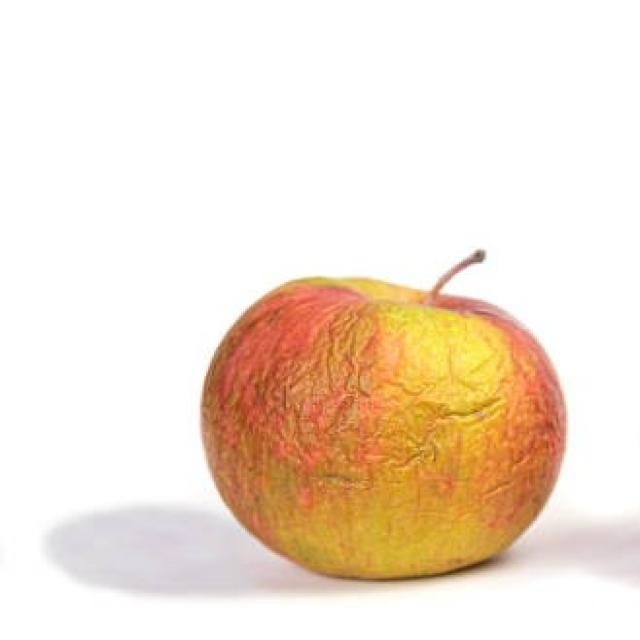overripe: (192, 271, 574, 584)
